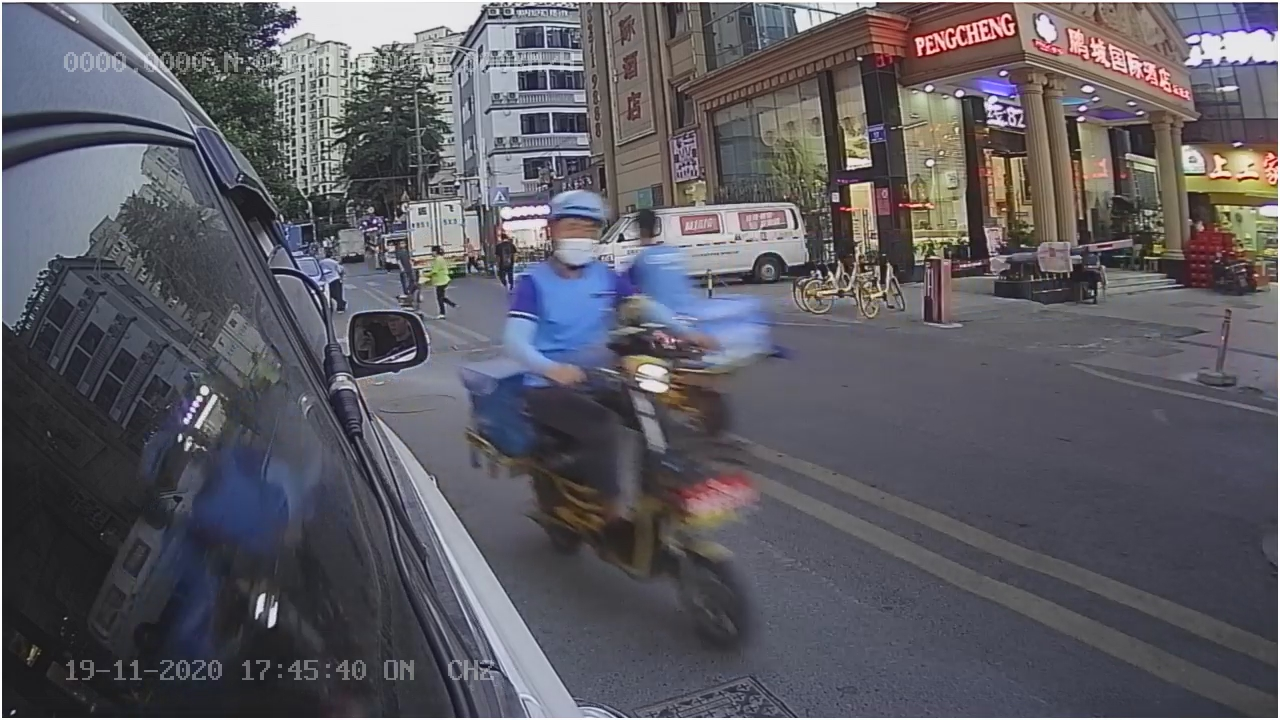person: (509, 189, 633, 378)
